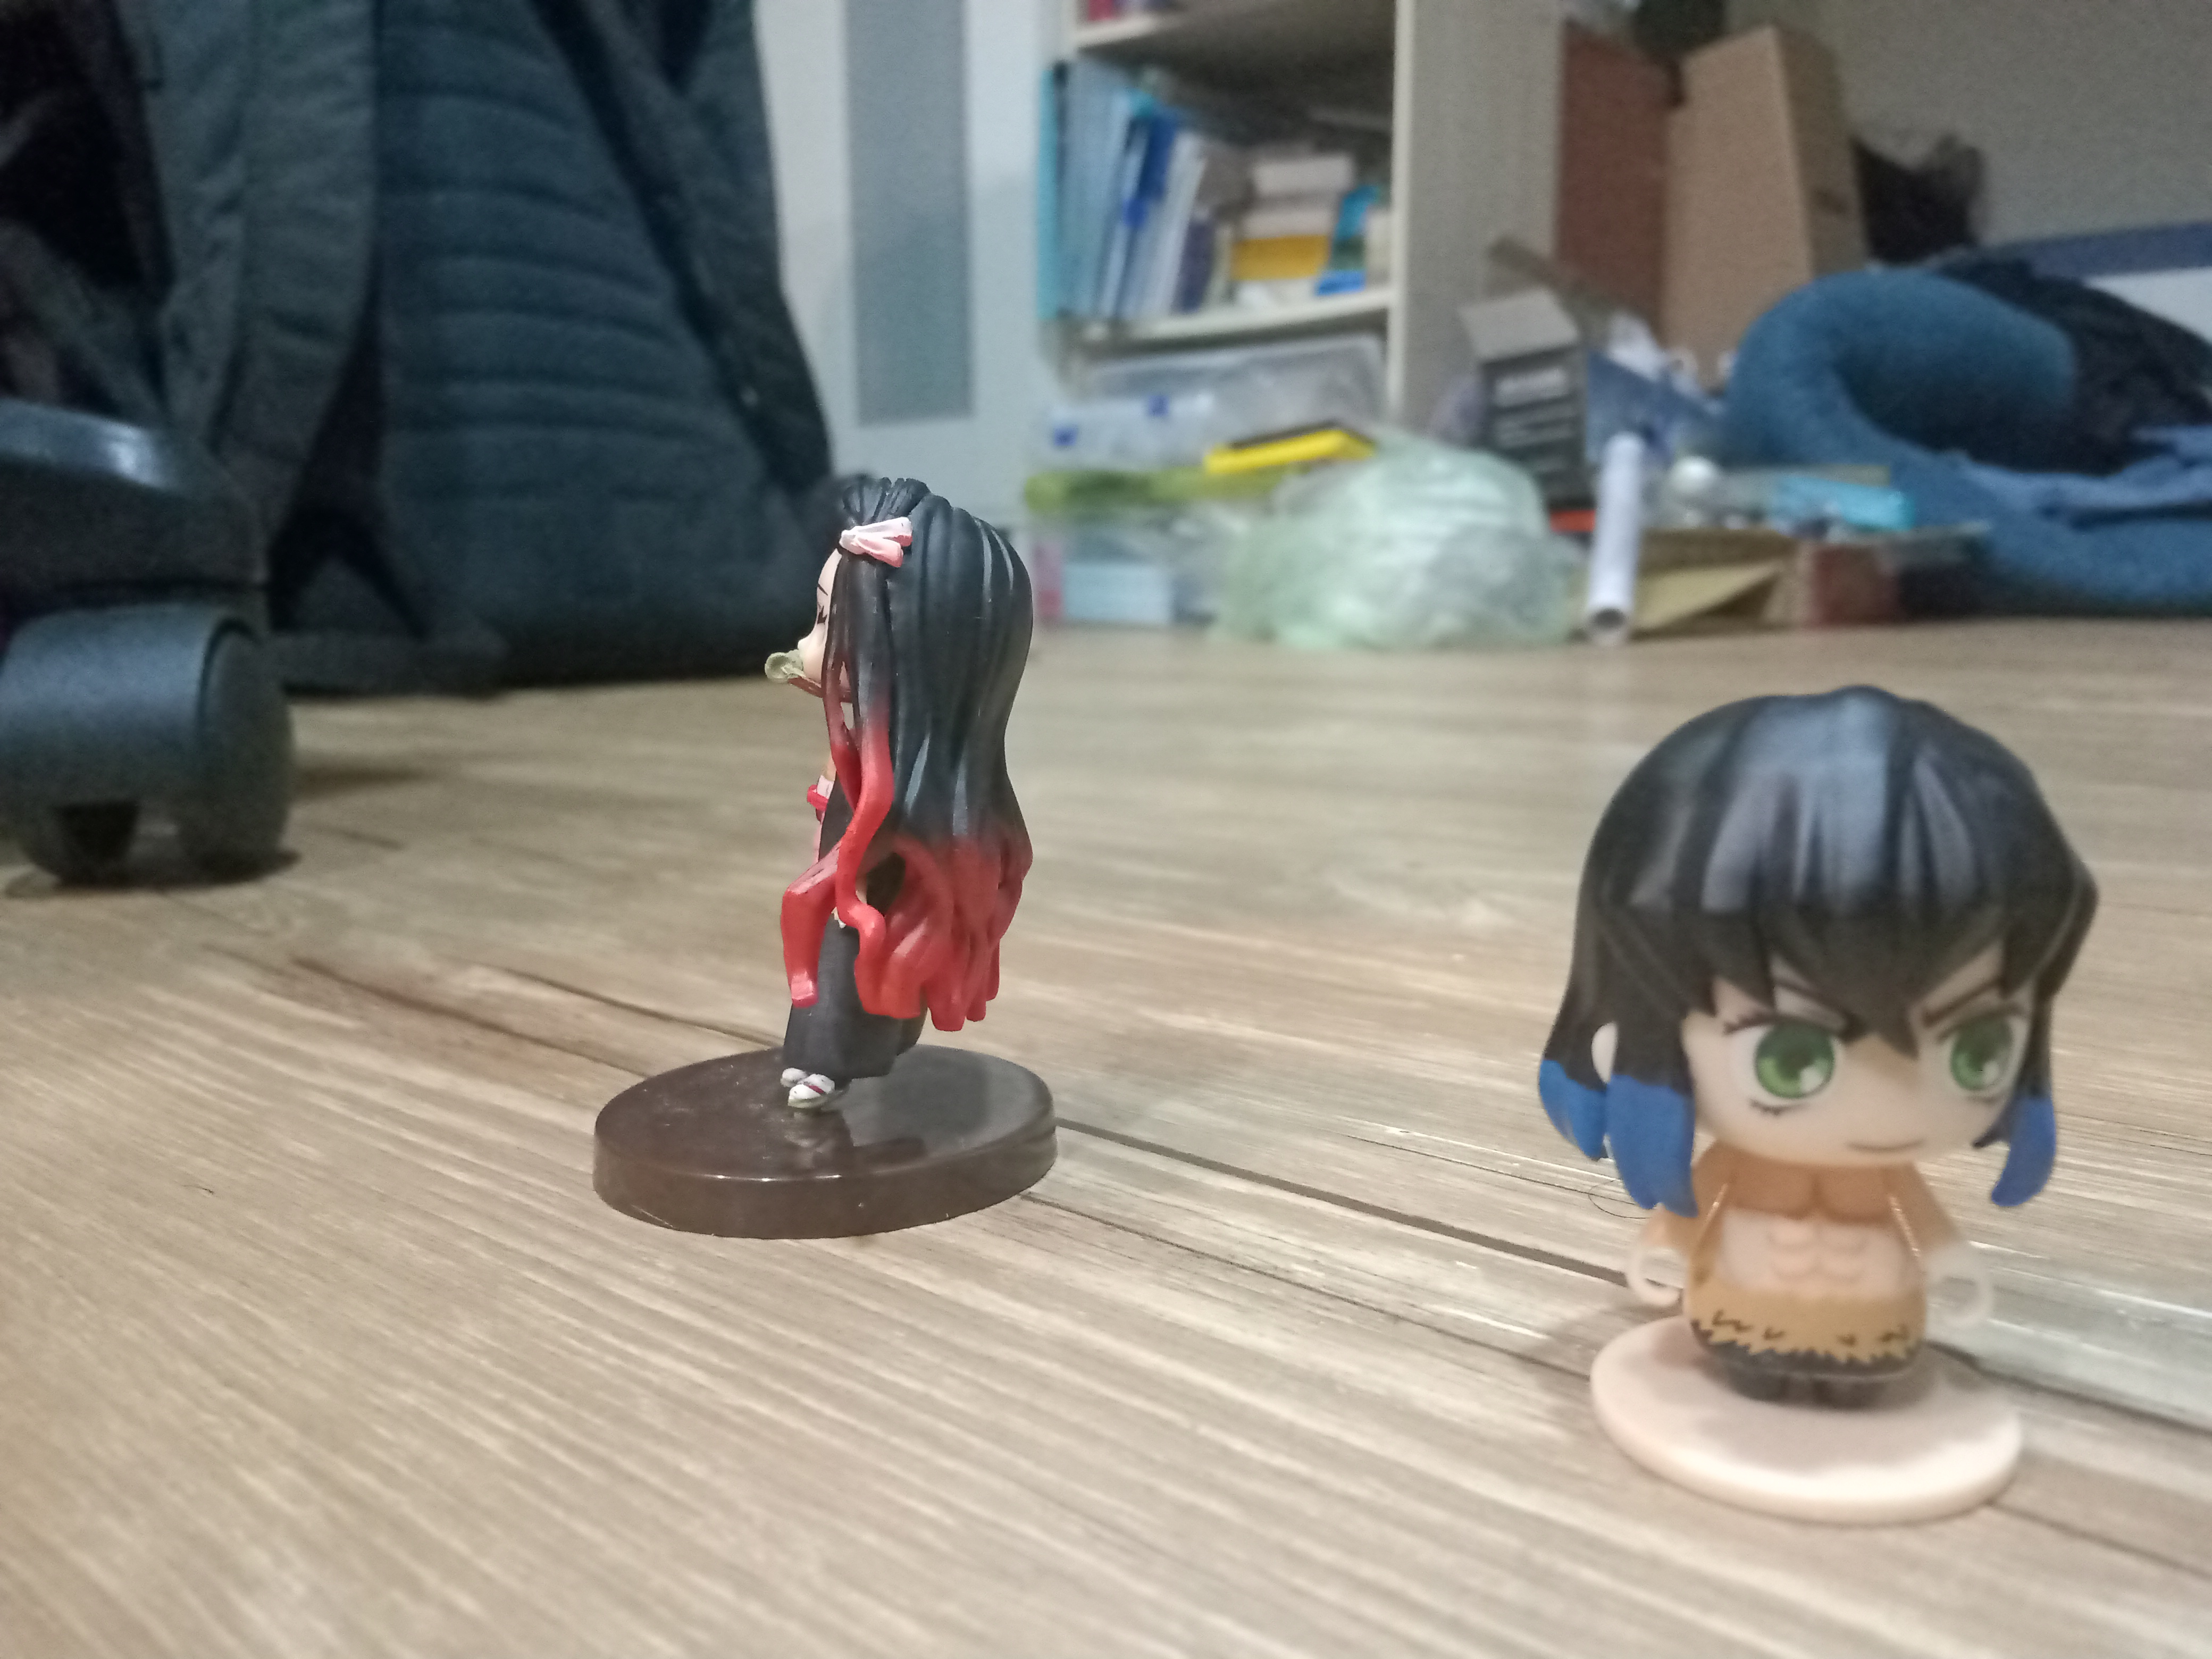Inosuke: (1498, 673, 2141, 1544)
Nezuko: (556, 453, 1106, 1277)
